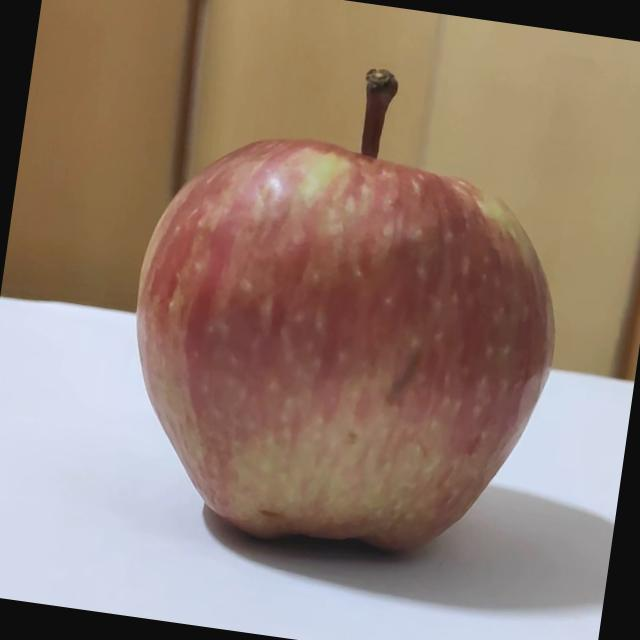apple: (104, 34, 593, 580)
